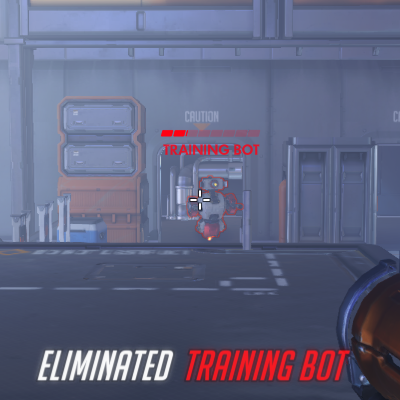hpbar: (161, 129, 261, 137)
